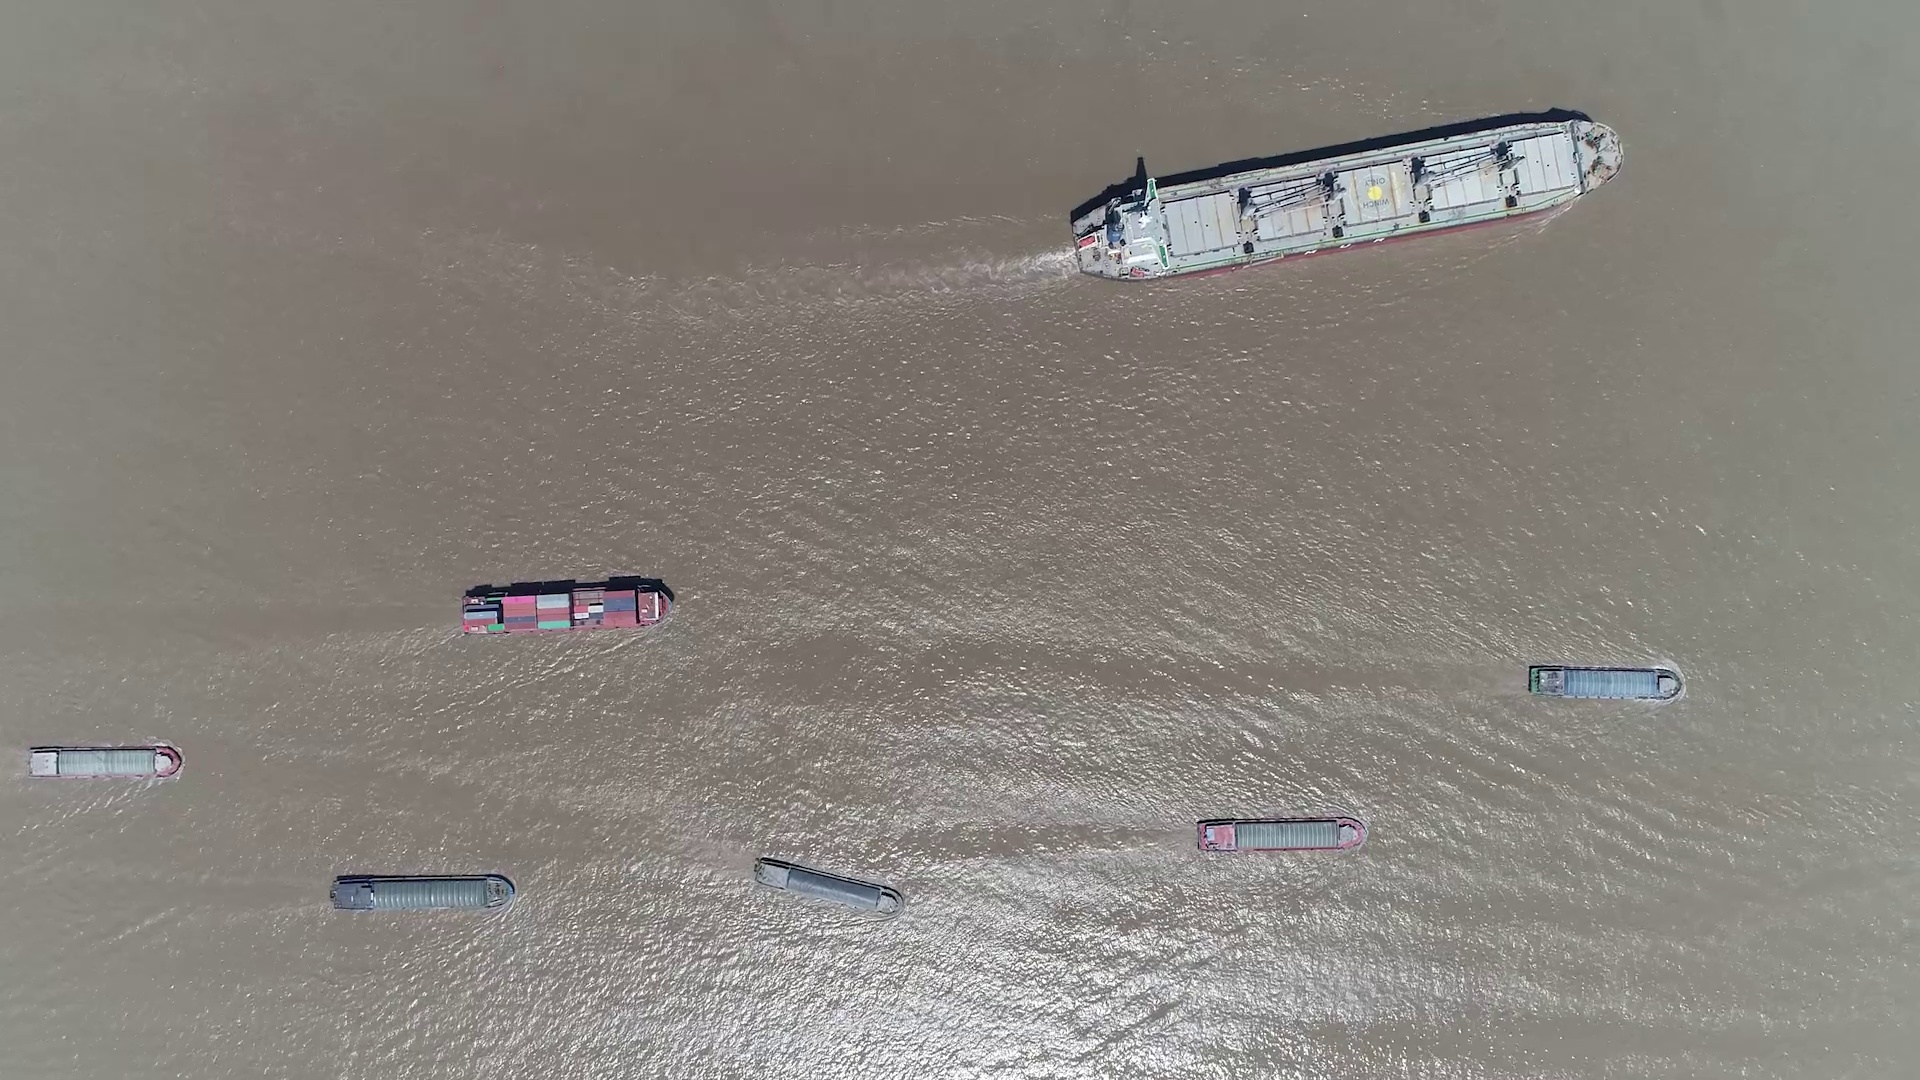ship: (1069, 119, 1623, 278), (460, 583, 673, 636), (754, 857, 901, 914), (328, 874, 514, 911), (1197, 816, 1366, 855), (1524, 663, 1683, 702), (26, 746, 182, 779)
